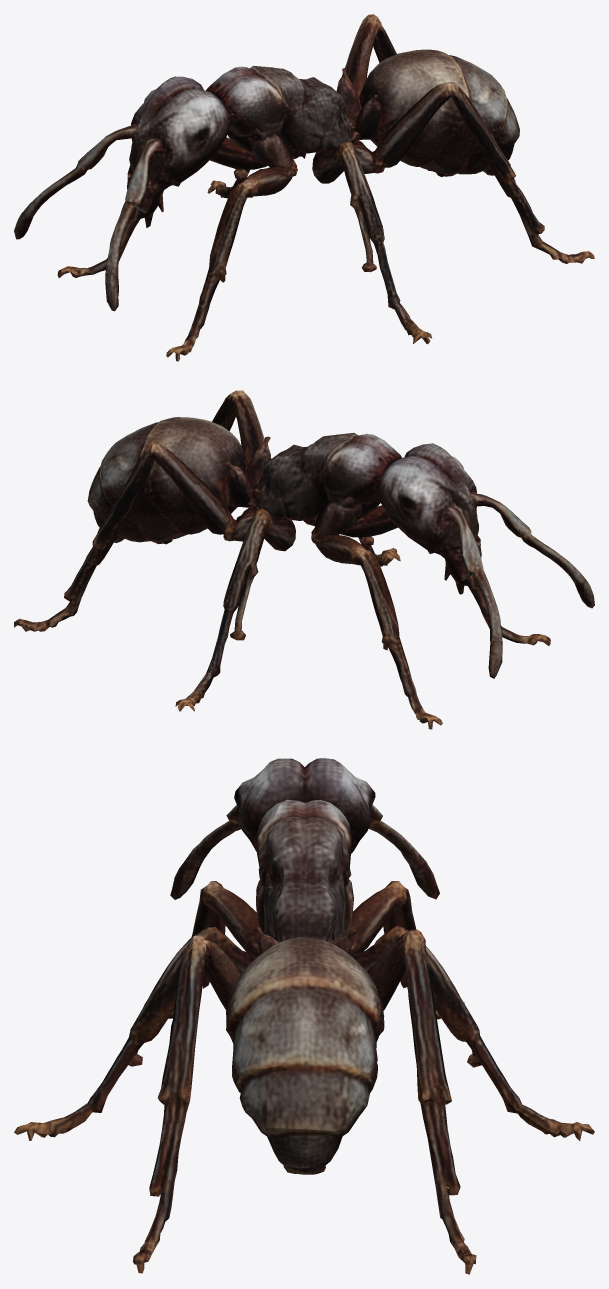
The picture shows the model from 3 angles, top to bottom: view 1: azimuth 30°, elevation 25°; view 2: azimuth 150°, elevation 25°; view 3: azimuth 270°, elevation 25°; orthographic projection. The views are drawn at different scales.
Visible parts, largest first — view 1: world; view 2: world; view 3: world.
Part boxes in pixels (x1=…): world: x1=14, y1=14, x2=594, y2=361; world: x1=14, y1=390, x2=594, y2=729; world: x1=14, y1=758, x2=594, y2=1274.
Bounding box in the file's own units: 0.012 × 0.00526 × 0.00958.
Materials: 1 (1 with a texture image).
